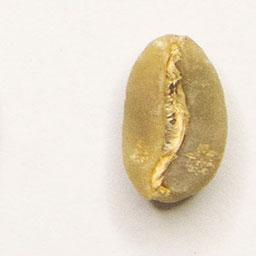longberry: (118, 29, 232, 208)
